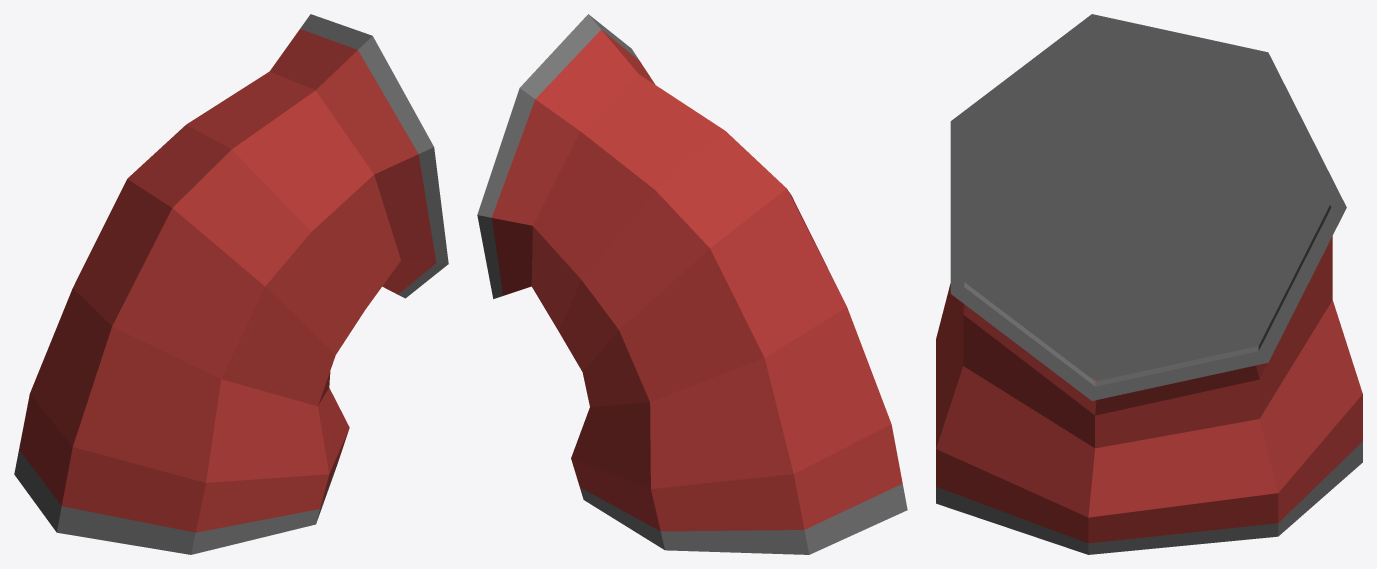
File: RedCan004.fbx
3 views of the same model, side by side, from view 1: azimuth 30°, elevation 25°; view 2: azimuth 150°, elevation 25°; view 3: azimuth 270°, elevation 25° (orthographic). The views are drawn at different scales.
Parts seen in each view (by area): view 1: CanRed004; view 2: CanRed004; view 3: CanRed004.
Part boxes in pixels (box(x1,y1,x2,y2)): CanRed004: box(14, 14, 448, 554); CanRed004: box(477, 14, 907, 554); CanRed004: box(936, 14, 1362, 554).
Bounding box in the file's own units: 83.25 × 95.13 × 65.11.
